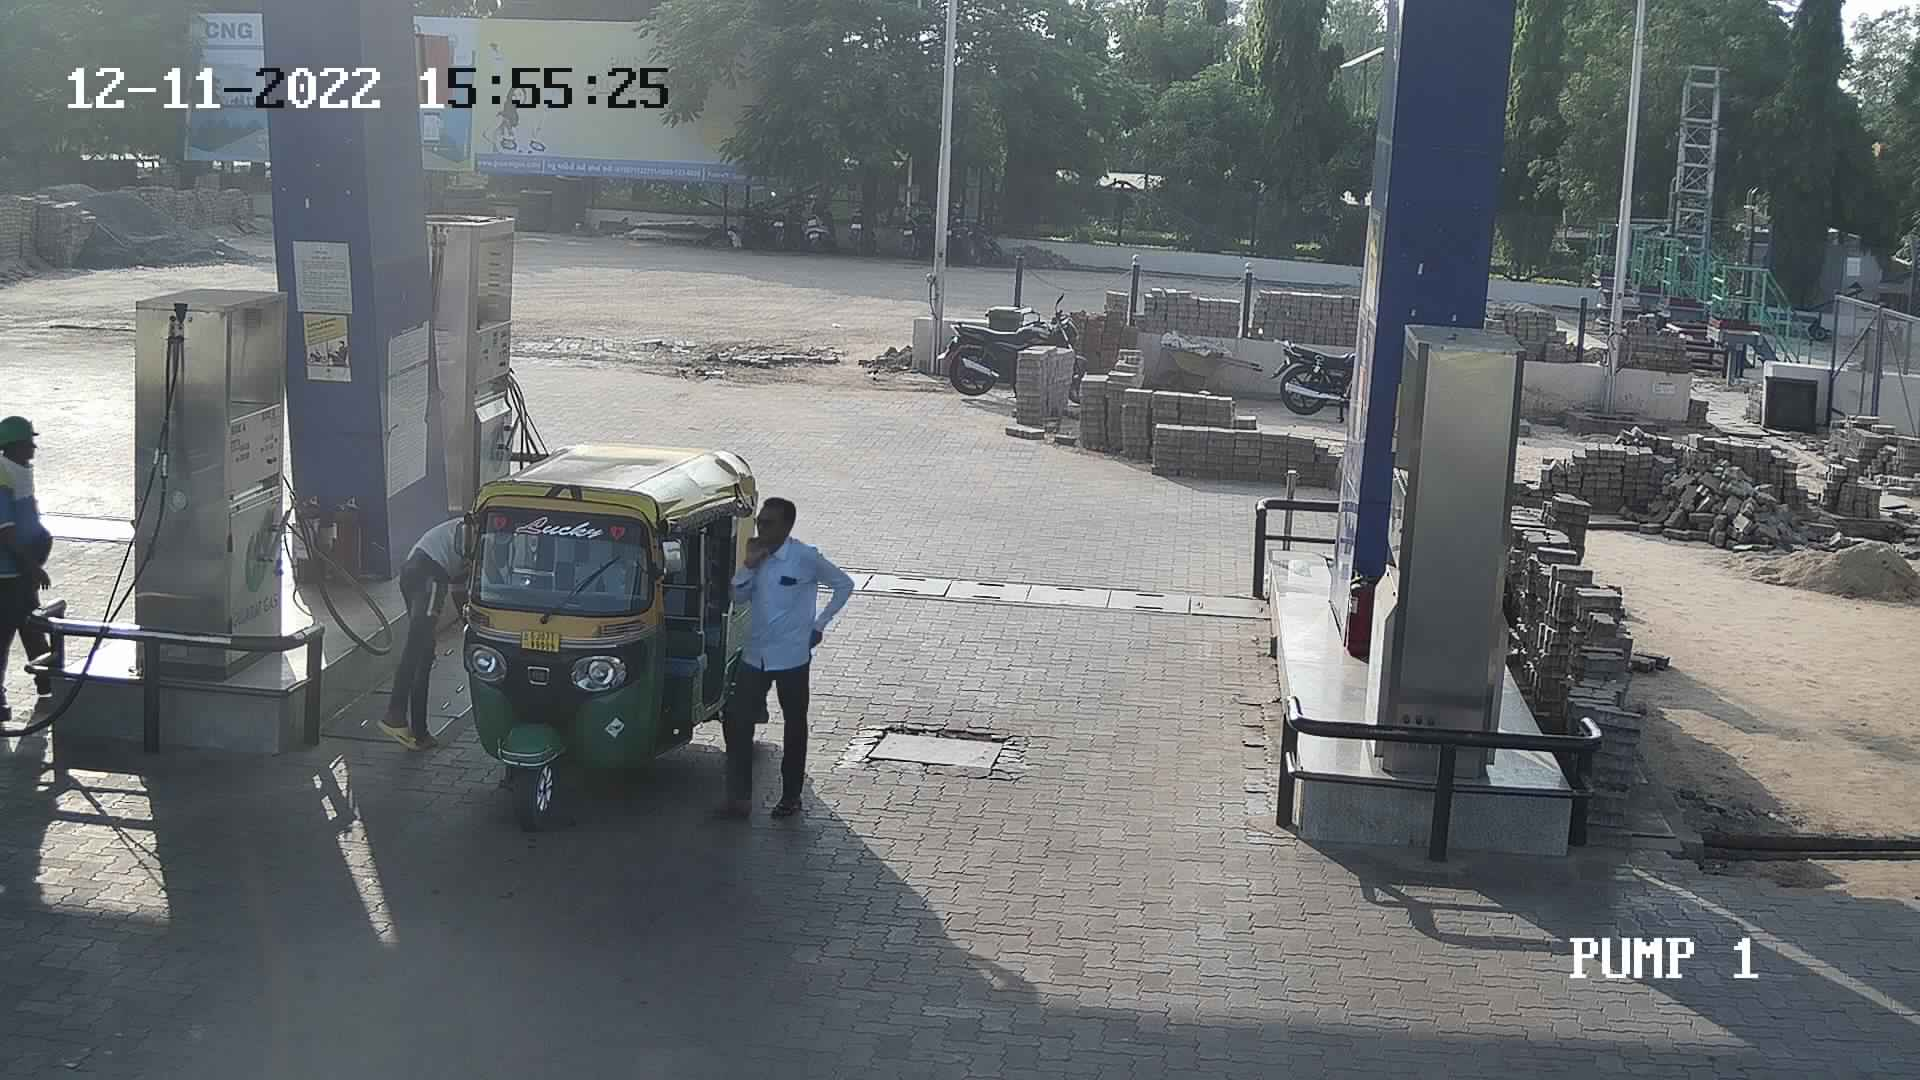Auto: (446, 421, 771, 808)
Bike: (930, 281, 1098, 429), (1269, 316, 1356, 422), (938, 193, 1010, 274), (736, 175, 785, 248), (891, 187, 931, 272), (799, 182, 847, 251), (767, 181, 810, 255), (837, 191, 881, 257)
Others: (0, 404, 67, 735)
